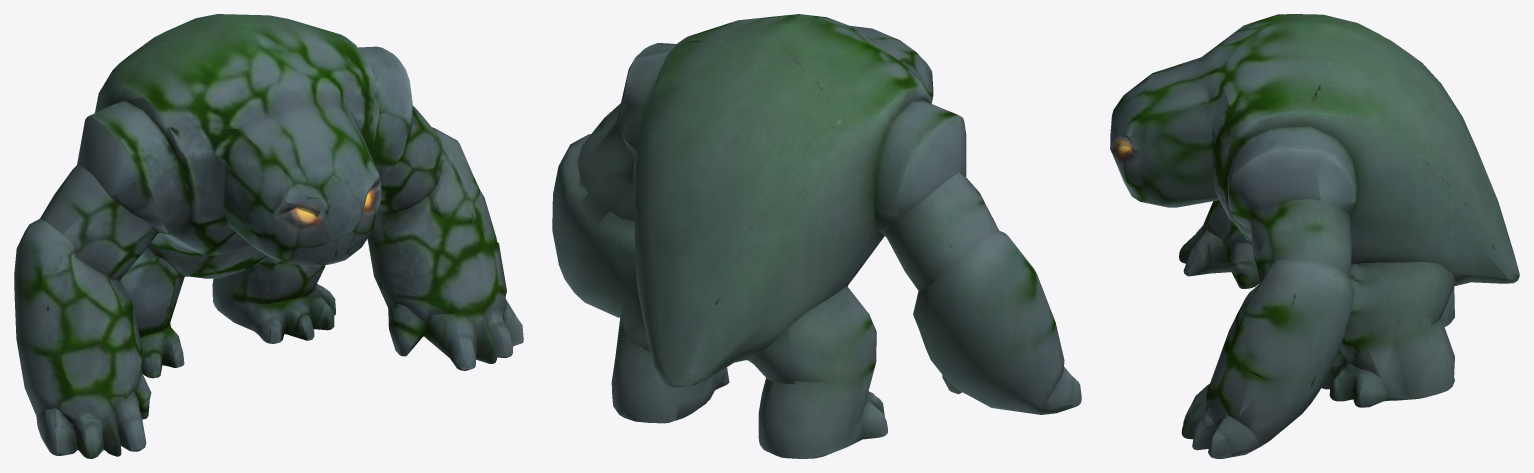
The model's file is stone.glb.
3 renders of one model, left to right at view 1: azimuth 30°, elevation 25°; view 2: azimuth 150°, elevation 25°; view 3: azimuth 270°, elevation 25°, orthographic. The views are drawn at different scales.
Visible parts, largest first — view 1: Mesh; view 2: Mesh; view 3: Mesh.
Boxes of the visible parts, x1=… form: Mesh: x1=14, y1=14, x2=523, y2=458; Mesh: x1=552, y1=14, x2=1081, y2=458; Mesh: x1=1110, y1=14, x2=1519, y2=458.
Bounding box in the file's own units: 1.9 × 1.33 × 1.5.
1 material, 1 textured.
